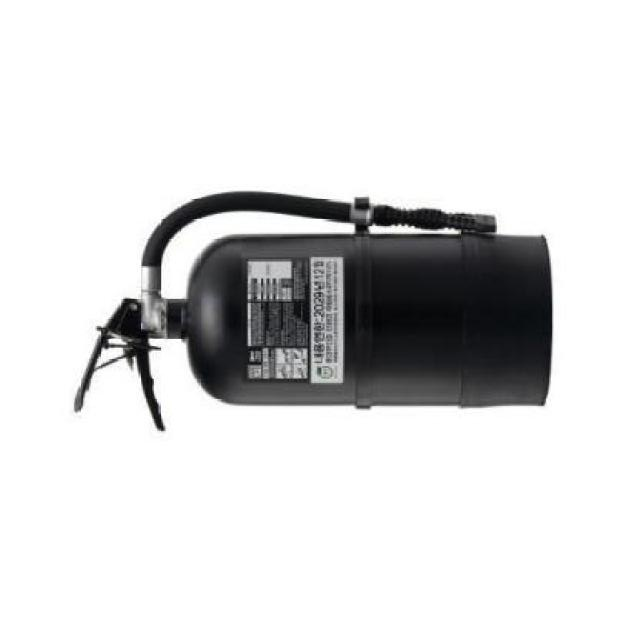fire extinguisher: (72, 191, 555, 432)
